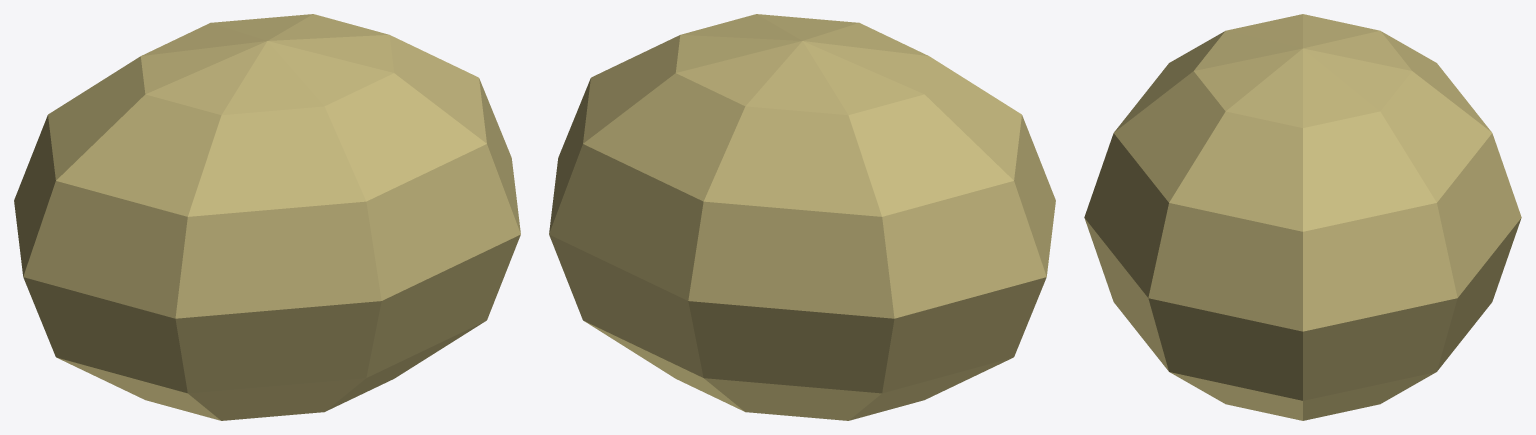
File: ENV_Greenwood_Rock_C_V1.glb
3 views of the same model, side by side, from view 1: azimuth 30°, elevation 25°; view 2: azimuth 150°, elevation 25°; view 3: azimuth 270°, elevation 25° (orthographic). The views are drawn at different scales.
Parts seen in each view (by area): view 1: Rock; view 2: Rock; view 3: Rock.
Boxes of the visible parts, bbox=[...] form: Rock: bbox=[14, 14, 520, 420]; Rock: bbox=[549, 14, 1055, 420]; Rock: bbox=[1084, 14, 1521, 420].
Size of the model in its own units: 4.2 by 2.9 by 3.4.
